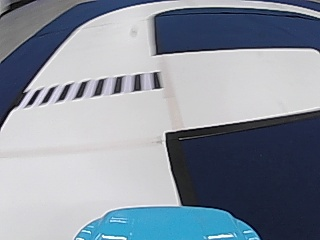CrossWalk: (34, 73, 165, 102)
